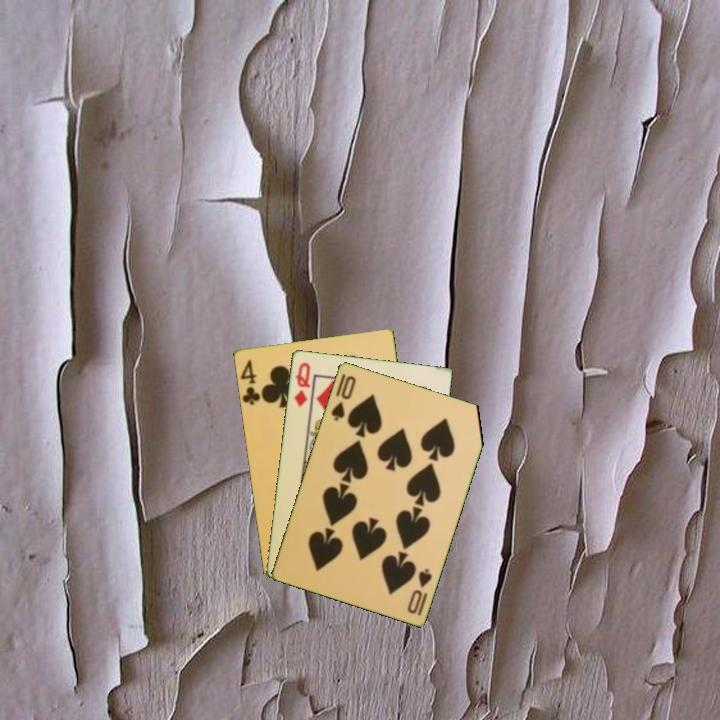10s: (327, 372, 359, 423), (404, 564, 434, 618)
4c: (237, 356, 263, 408)
Qd: (290, 358, 313, 409)
